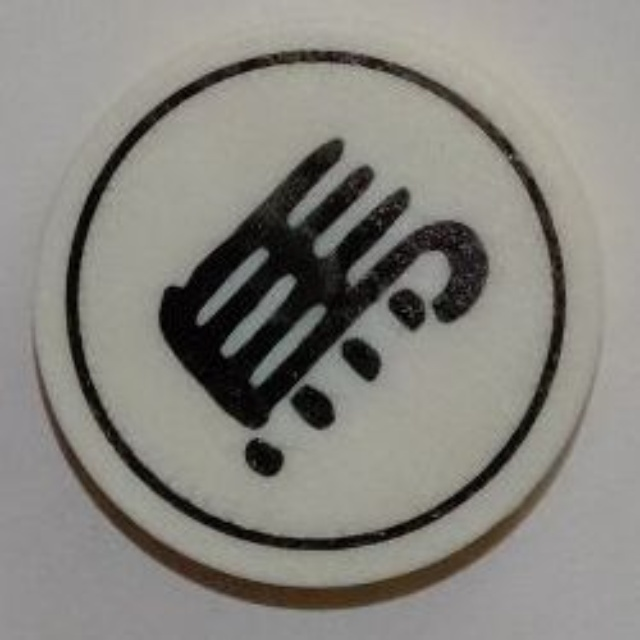black_ma: (29, 17, 611, 602)
